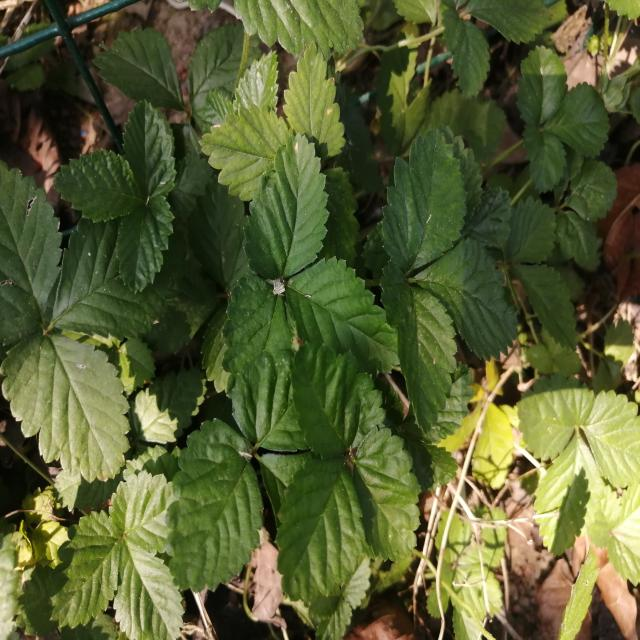Mock_strawberry: (180, 336, 422, 623), (204, 57, 400, 374), (373, 110, 523, 421)
